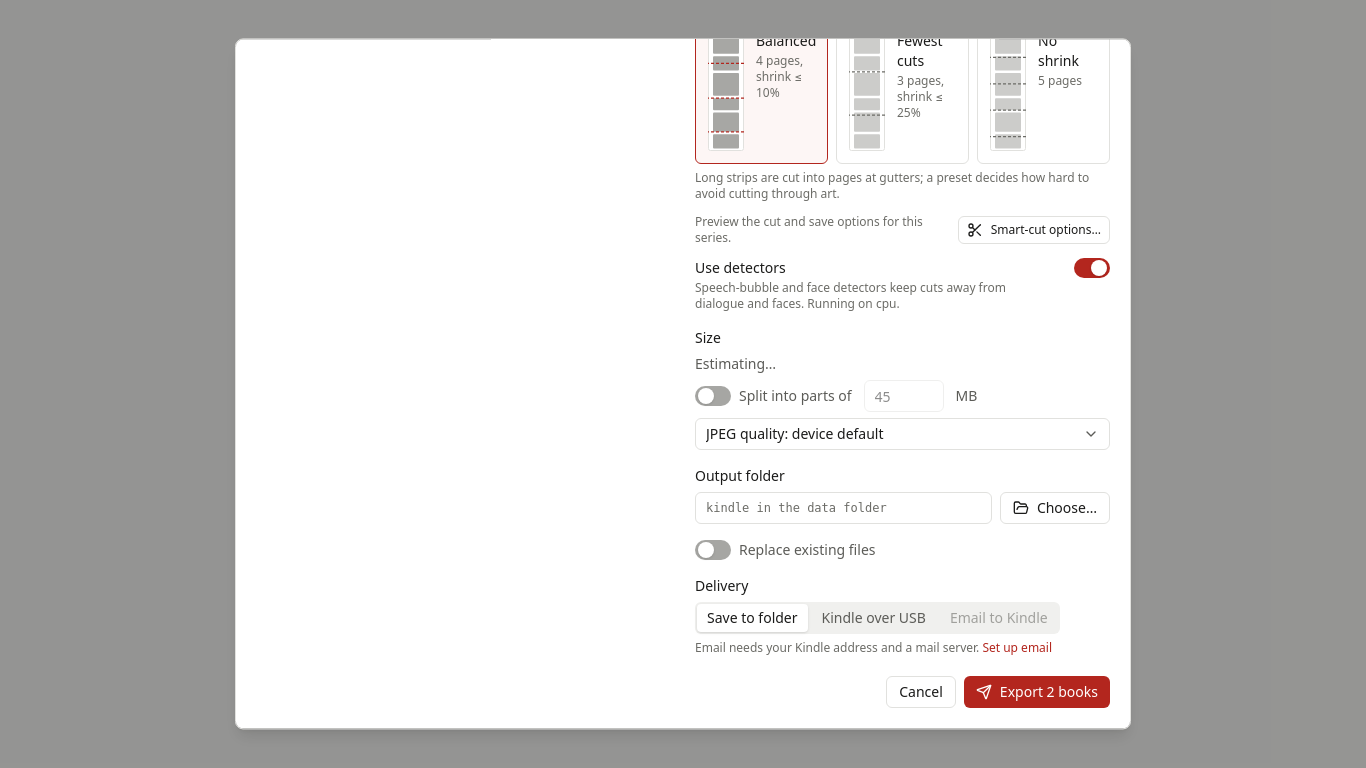
Test: Try again after a stopped export (#337) › dialog (replace false): Try again writes only the unwritten book and says the kept one is there
(page scrolled)
Click the button "Export 2 books".
click(1037, 692)  # box left=964, top=676, right=1110, bottom=708
(page scrolled)
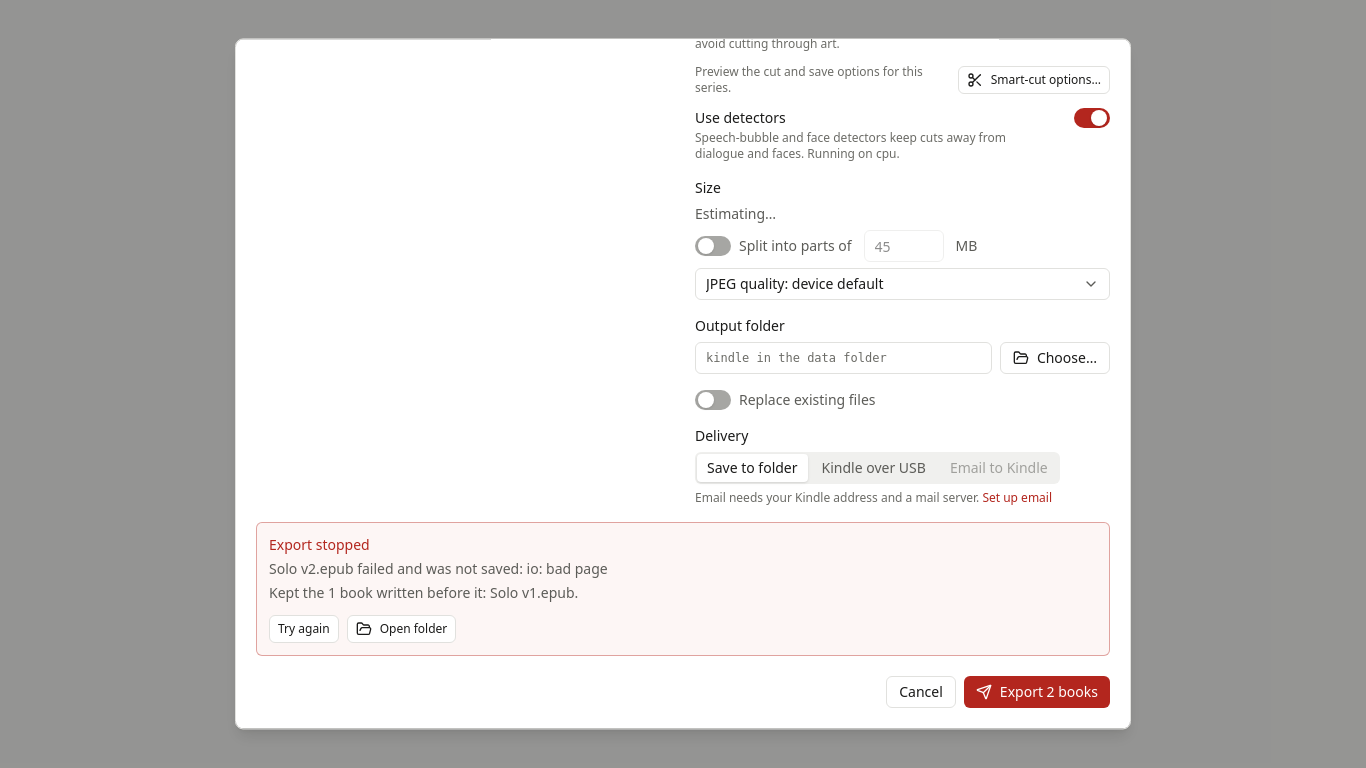
Expected: the text "Export stopped" is shown, left=269, top=535, right=370, bottom=554
Expected: the button "Try again" is enabled
Click the button "Try again".
click(304, 629)  # box left=269, top=615, right=339, bottom=643
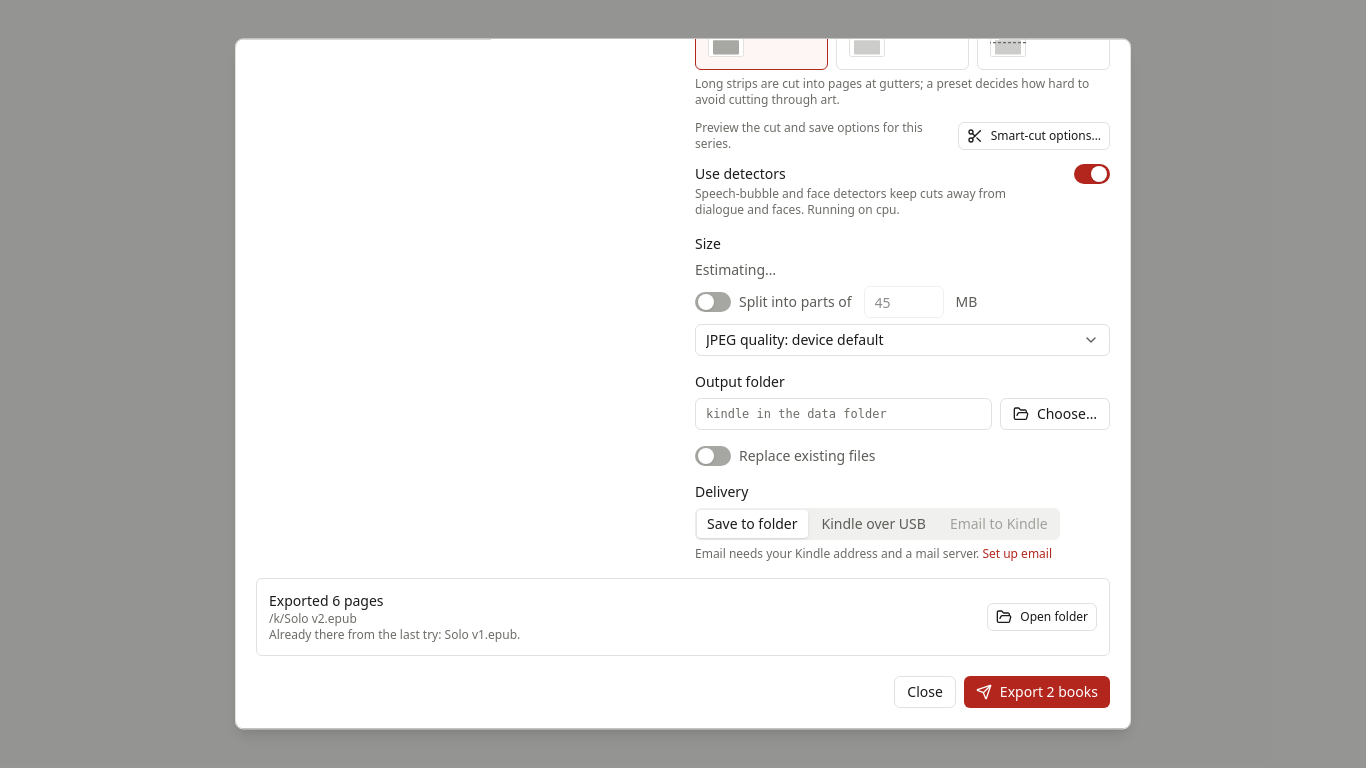
Expected: the text "Already there from the last try: Solo v1.epub." is shown, left=269, top=627, right=520, bottom=643
